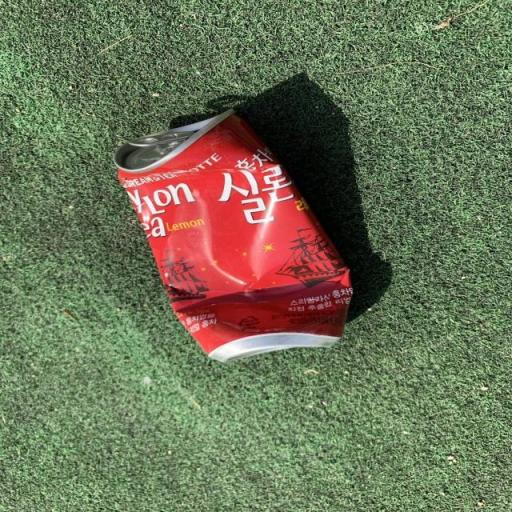metal: (93, 96, 381, 375)
